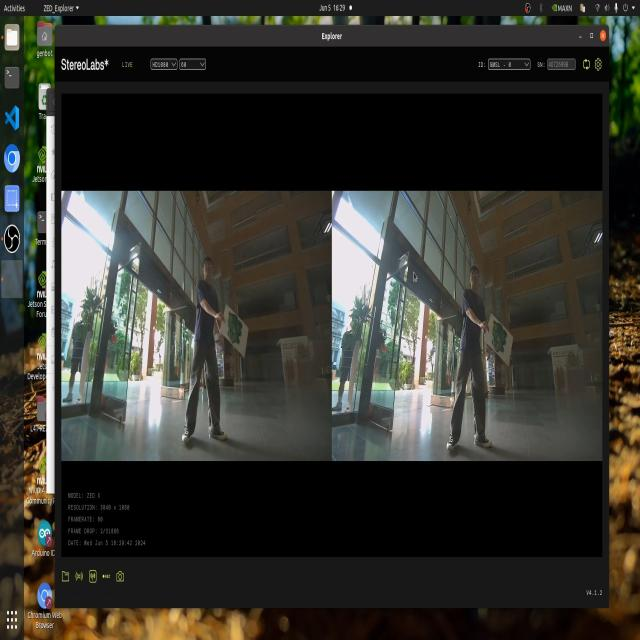green: (218, 310, 258, 356), (484, 313, 512, 353)
